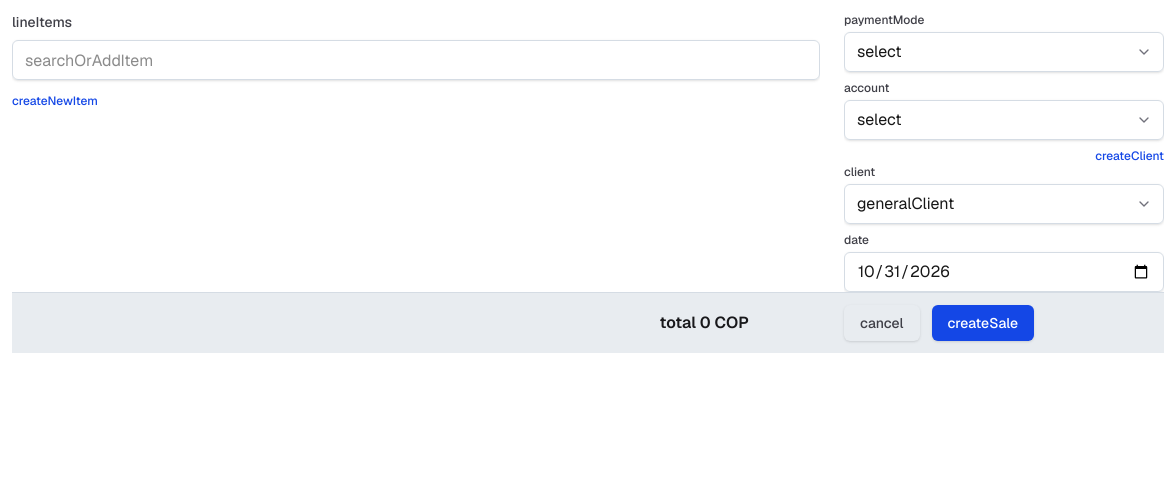
Test: SaleForm clientId required semantics (S6.1/S6.2) › associates the missing-client hint with clientId via aria-describedby (S7.3)
Select "onCredit" in the dropdown labelled "paymentMode". click: (1004, 52)
box: [844,32,1164,72]
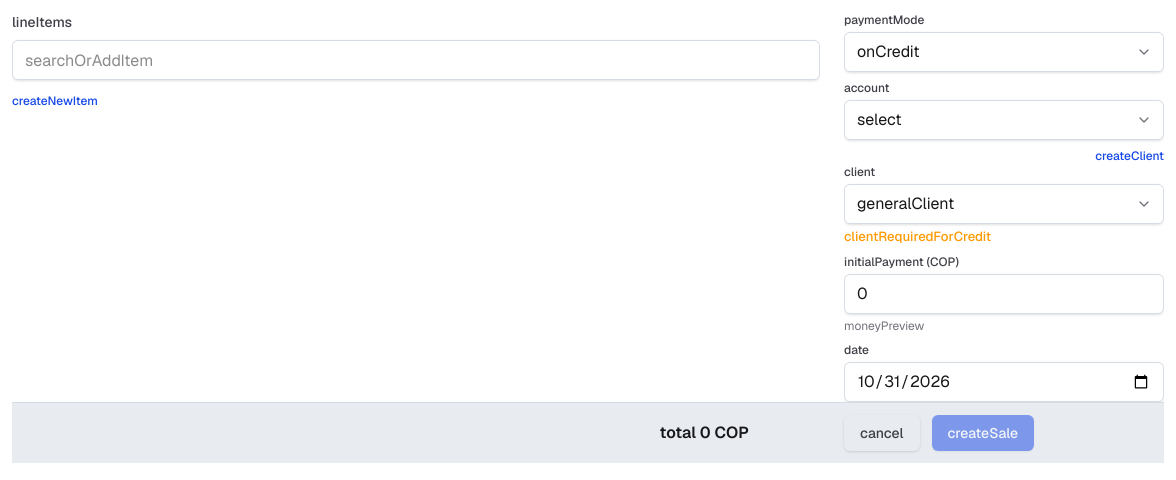
Expected: the text with id "clientId-hint" reads "clientRequiredForCredit", [844,228,991,245]
Select "paidInFull" in the dropdown labelled "paymentMode". click: (1004, 52)
box: [844,32,1164,72]
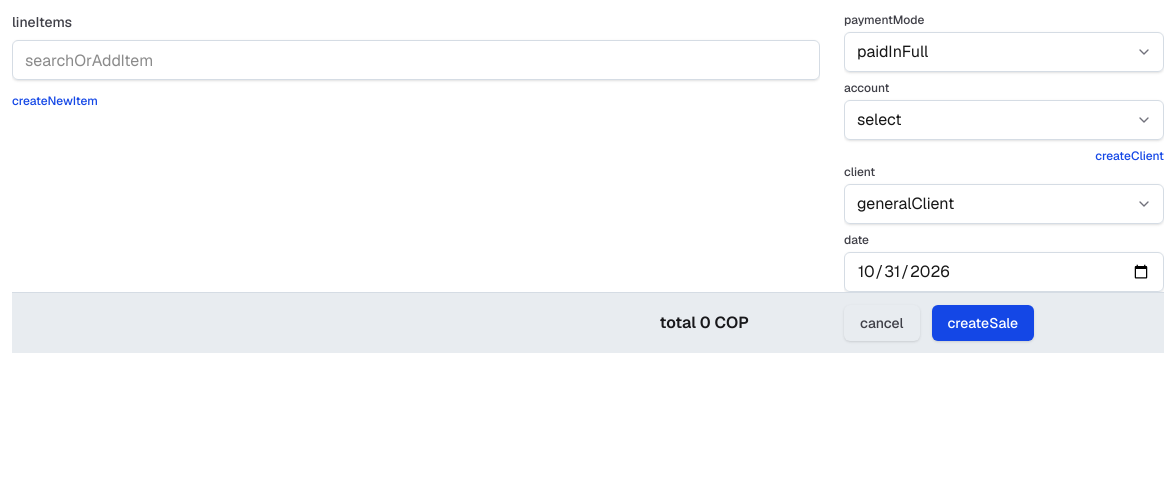
Expected: the text with id "clientId-hint" is gone
